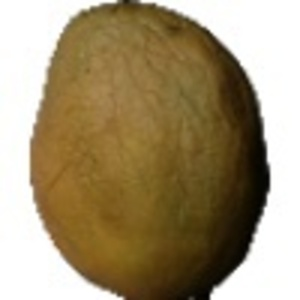mamão: (20, 3, 275, 296)
